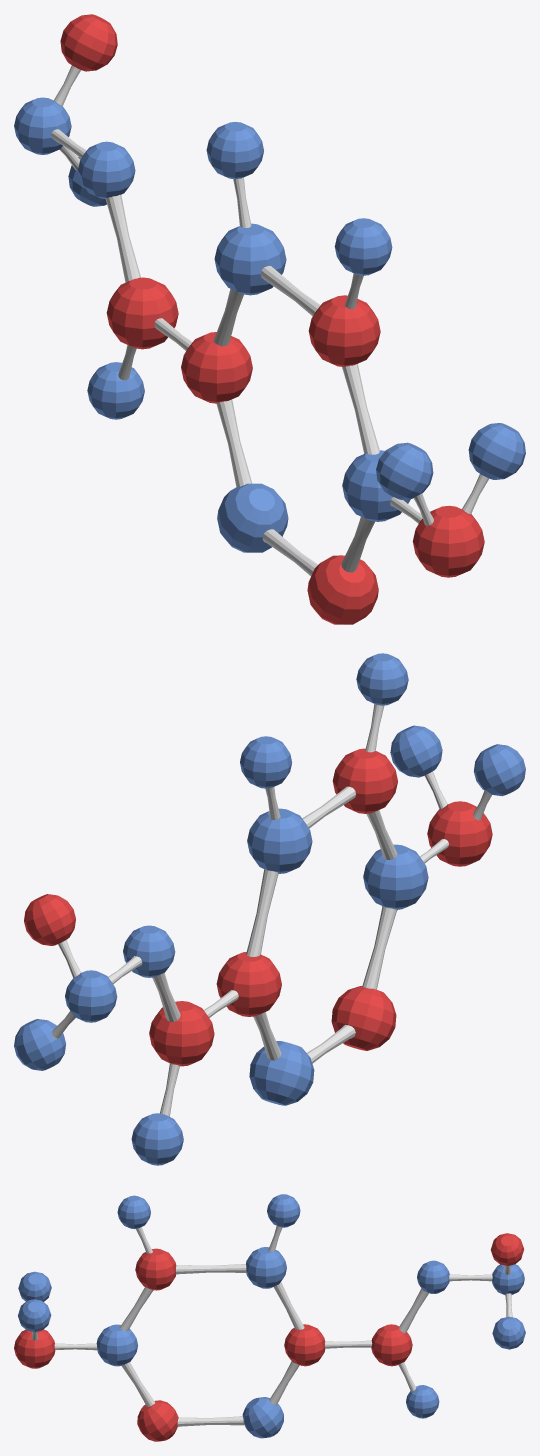
File: Molocule_1.fbx
3 views of the same model, one above another, from view 1: azimuth 30°, elevation 25°; view 2: azimuth 150°, elevation 25°; view 3: azimuth 270°, elevation 25° (orthographic). The views are drawn at different scales.
Visible parts, largest first — view 1: Molocule_1; view 2: Molocule_1; view 3: Molocule_1.
Part boxes in pixels (x1=…): Molocule_1: x1=14, y1=14, x2=525, y2=624; Molocule_1: x1=14, y1=653, x2=525, y2=1165; Molocule_1: x1=14, y1=1194, x2=525, y2=1441.
Bounding box in the file's own units: 12.39 × 33.24 × 63.47.
